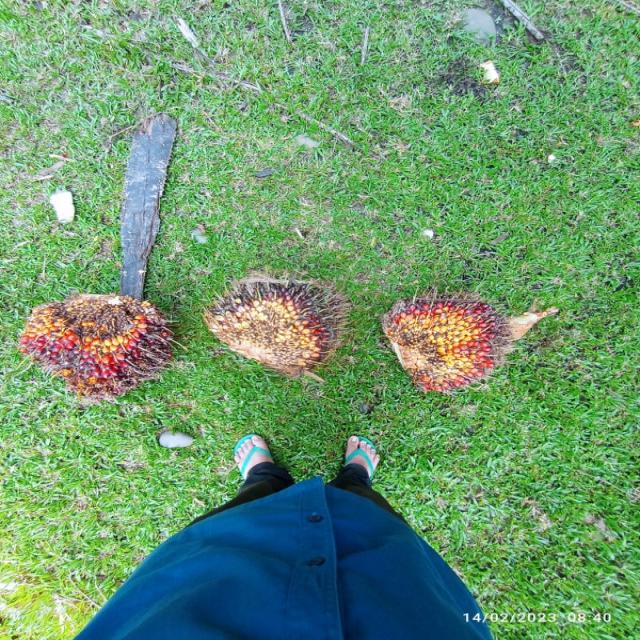fraksi 00: (198, 267, 346, 375)
fraksi 1: (378, 294, 515, 398)
fraksi 3: (20, 290, 178, 409)
